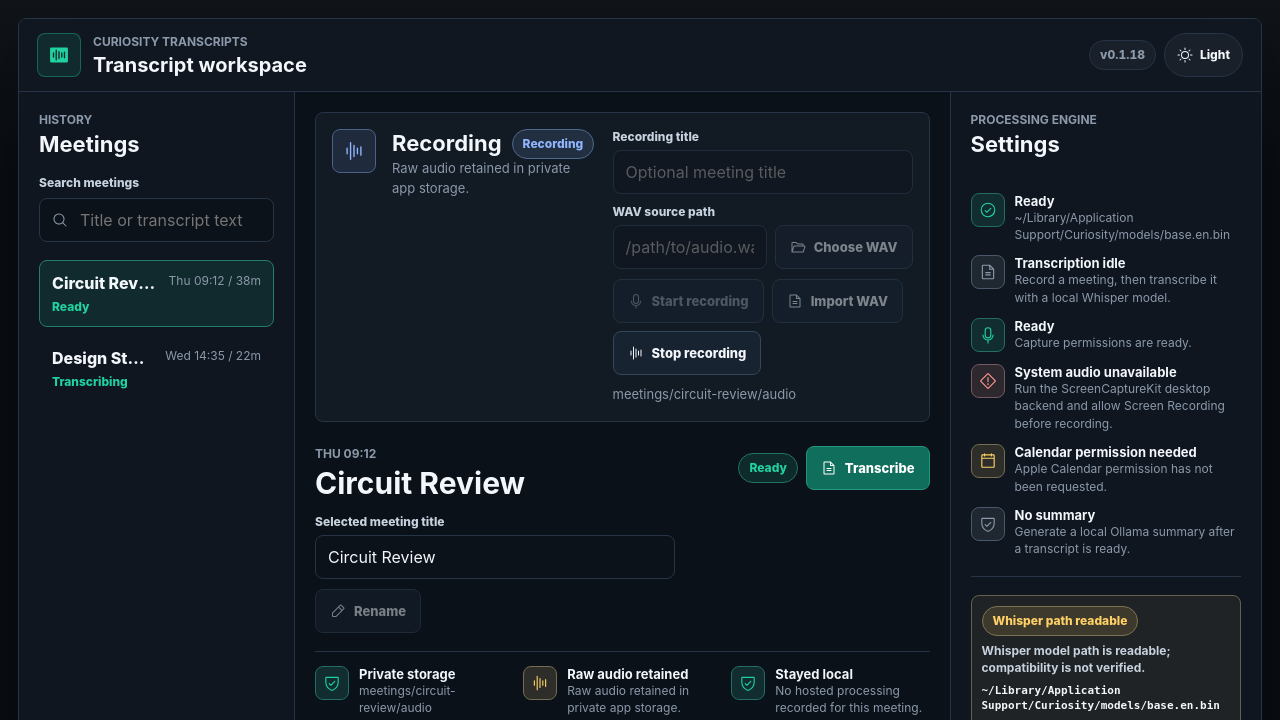
Test: desktop workspace shell › enables stop for active recordings and disables start until the returned snapshot lands
Expected: the button "Start recording" is disabled, x1=612 y1=279 x2=764 y2=323
Click the button "Stop recording": click(687, 353) x1=612 y1=331 x2=761 y2=375
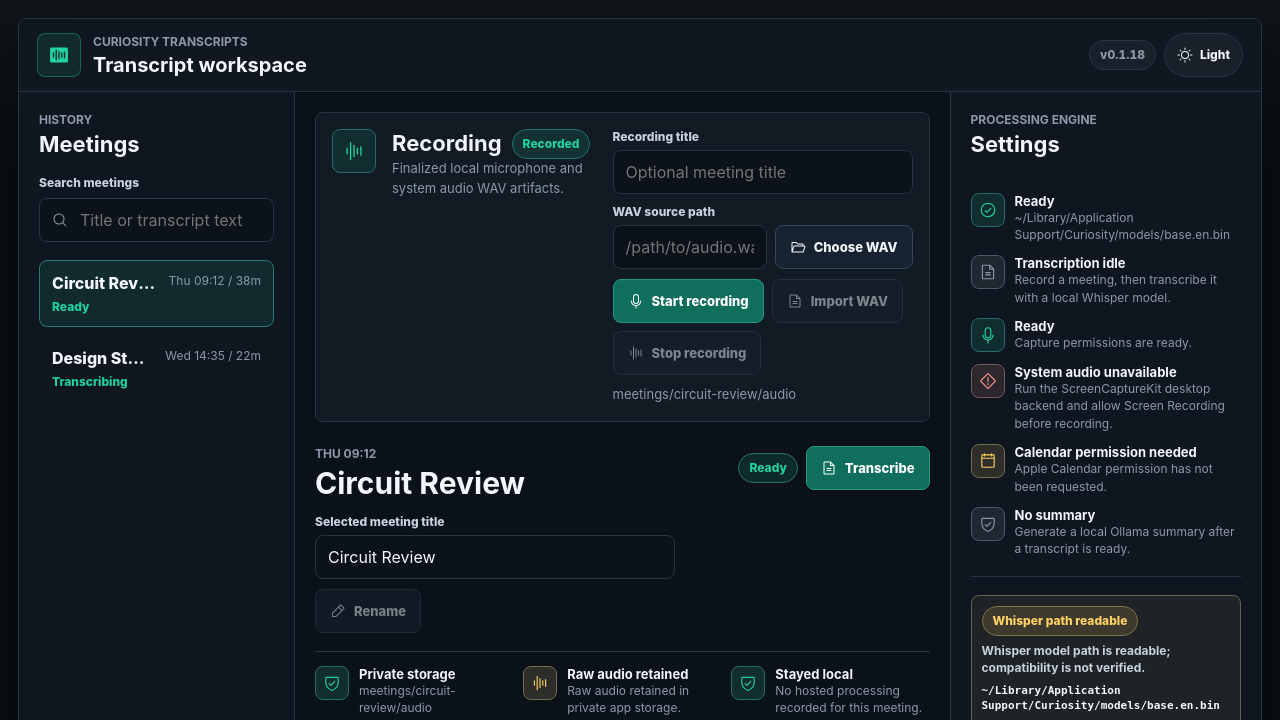
Now the text "Finalized local microphone and system audio WAV artifacts." is shown, box x1=392 y1=159 x2=594 y2=198
Now the button "Start recording" is enabled, box x1=612 y1=279 x2=764 y2=323
